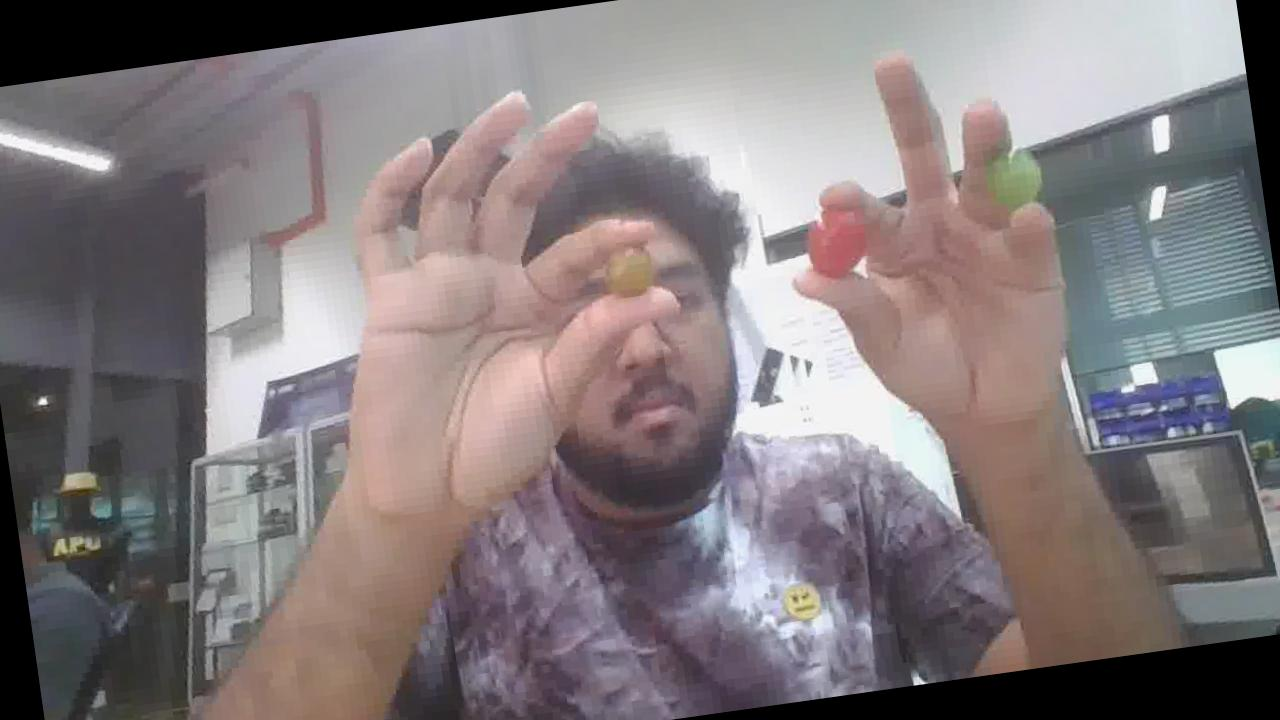green_cherry_tomato: (985, 150, 1041, 209)
red_cherry_tomato: (807, 209, 866, 276)
yellow_cherry_tomato: (606, 249, 654, 295)
